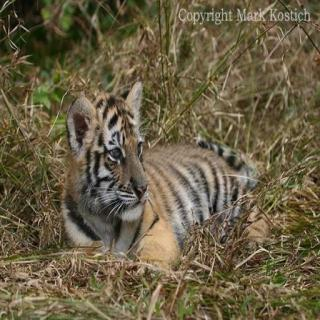Tiger: (58, 85, 271, 271)
